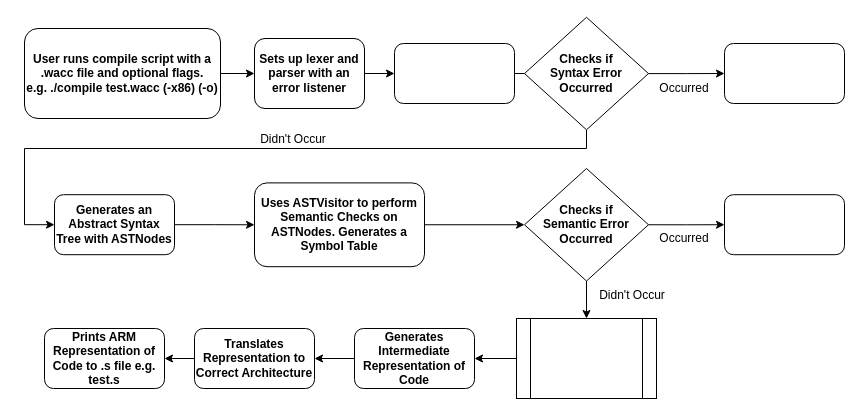
This 862x417 diagram has some shape labels left out. Each missing label, with the centre of its shape:
(Optional) Edits ASTNodes to perform optimisations if -o flag set: the point at 586,358
Exits with code 100 if error occurred: the point at 784,73
Exits with code 200 if error occurred: the point at 784,224
Uses ANTLR to perform lexical analysis and parsing: the point at 454,73
